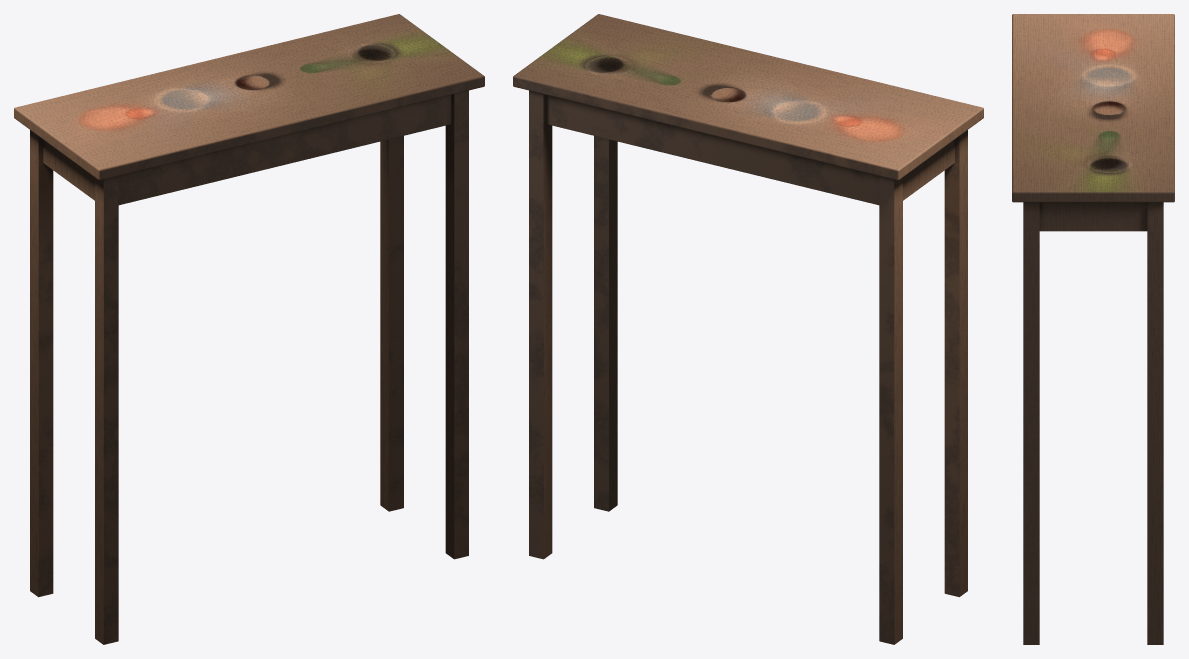
File: 402_hook.glb
The picture shows the model from 3 angles, left to right: view 1: azimuth 30°, elevation 25°; view 2: azimuth 150°, elevation 25°; view 3: azimuth 270°, elevation 25°; orthographic projection. The views are drawn at different scales.
Parts seen in each view (by area): view 1: Table; view 2: Table; view 3: Table.
Boxes of the visible parts, box(x1,y1,x2,y2) form: Table: box(14, 14, 484, 644); Table: box(513, 14, 983, 644); Table: box(1012, 14, 1174, 644).
Size of what is drawn, in the model's own units: 2.6 by 3.1 by 1.
Materials: 1 (1 with a texture image).
